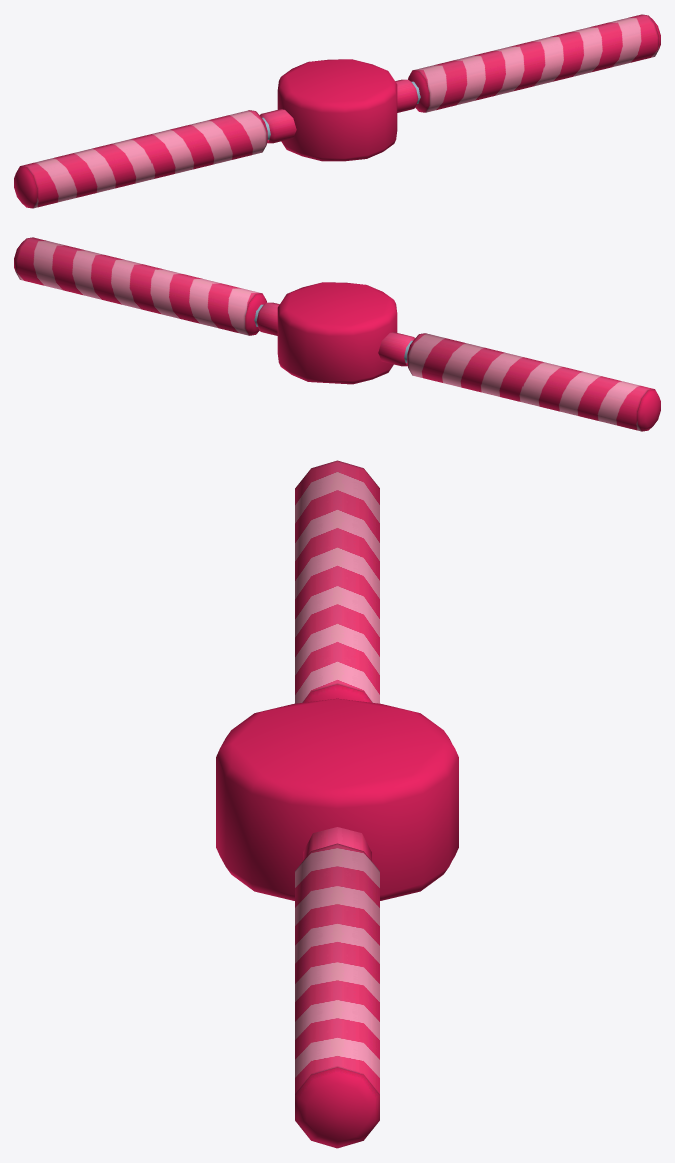
Rendered from aleronrosadoble.fbx.
The picture shows the model from 3 angles, top to bottom: view 1: azimuth 30°, elevation 25°; view 2: azimuth 150°, elevation 25°; view 3: azimuth 270°, elevation 25°; orthographic projection. The views are drawn at different scales.
Parts seen in each view (by area): view 1: SpinnyPaddleCenter_SpinnyPaddle3_0; view 2: SpinnyPaddleCenter_SpinnyPaddle3_0; view 3: SpinnyPaddleCenter_SpinnyPaddle3_0.
Part boxes in pixels (box(x1,y1,x2,y2)): SpinnyPaddleCenter_SpinnyPaddle3_0: box(14, 14, 660, 208); SpinnyPaddleCenter_SpinnyPaddle3_0: box(14, 237, 660, 431); SpinnyPaddleCenter_SpinnyPaddle3_0: box(216, 460, 458, 1148).
Size of the model in its own units: 838 by 73.95 by 138.
1 material, 1 textured.
